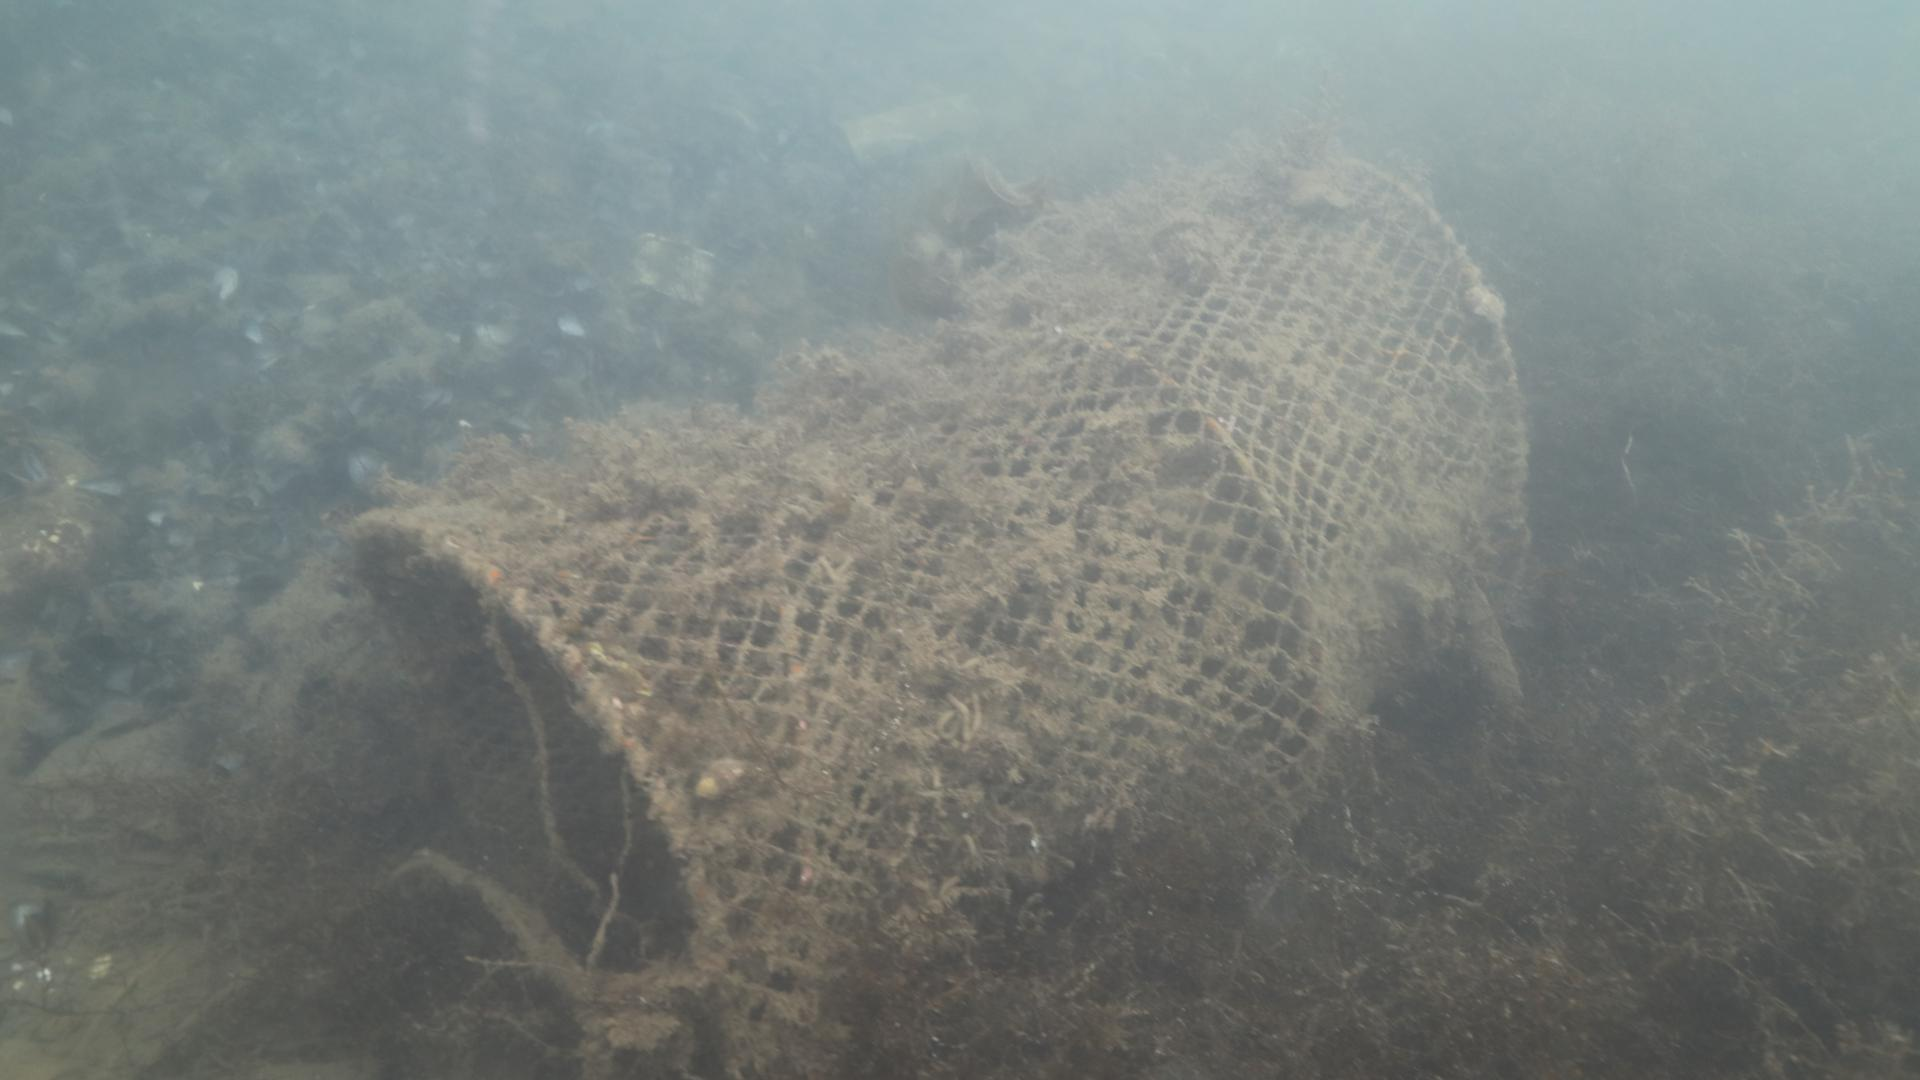spring fish trap: (328, 146, 1526, 1080)
